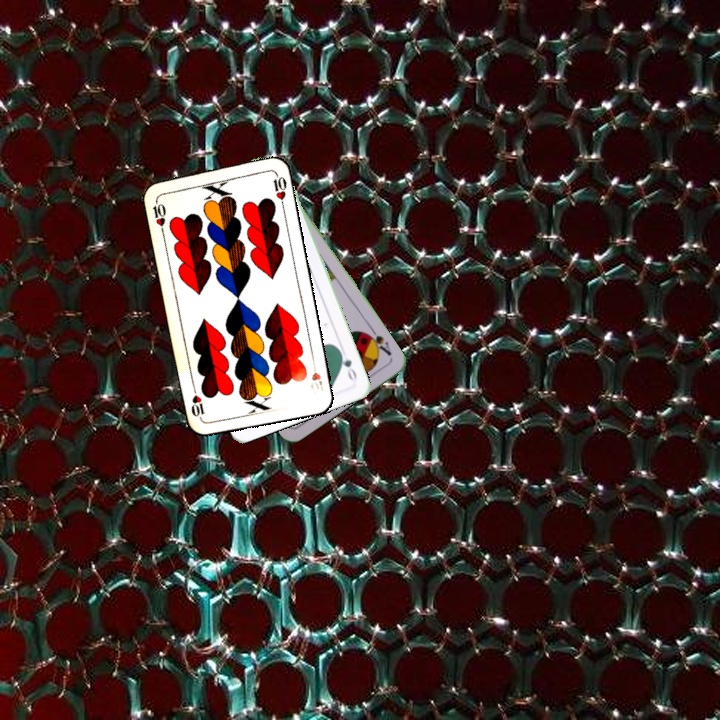GO: (335, 347, 359, 385)
H10: (148, 195, 169, 235), (306, 357, 326, 394)
SA: (361, 324, 394, 358)
